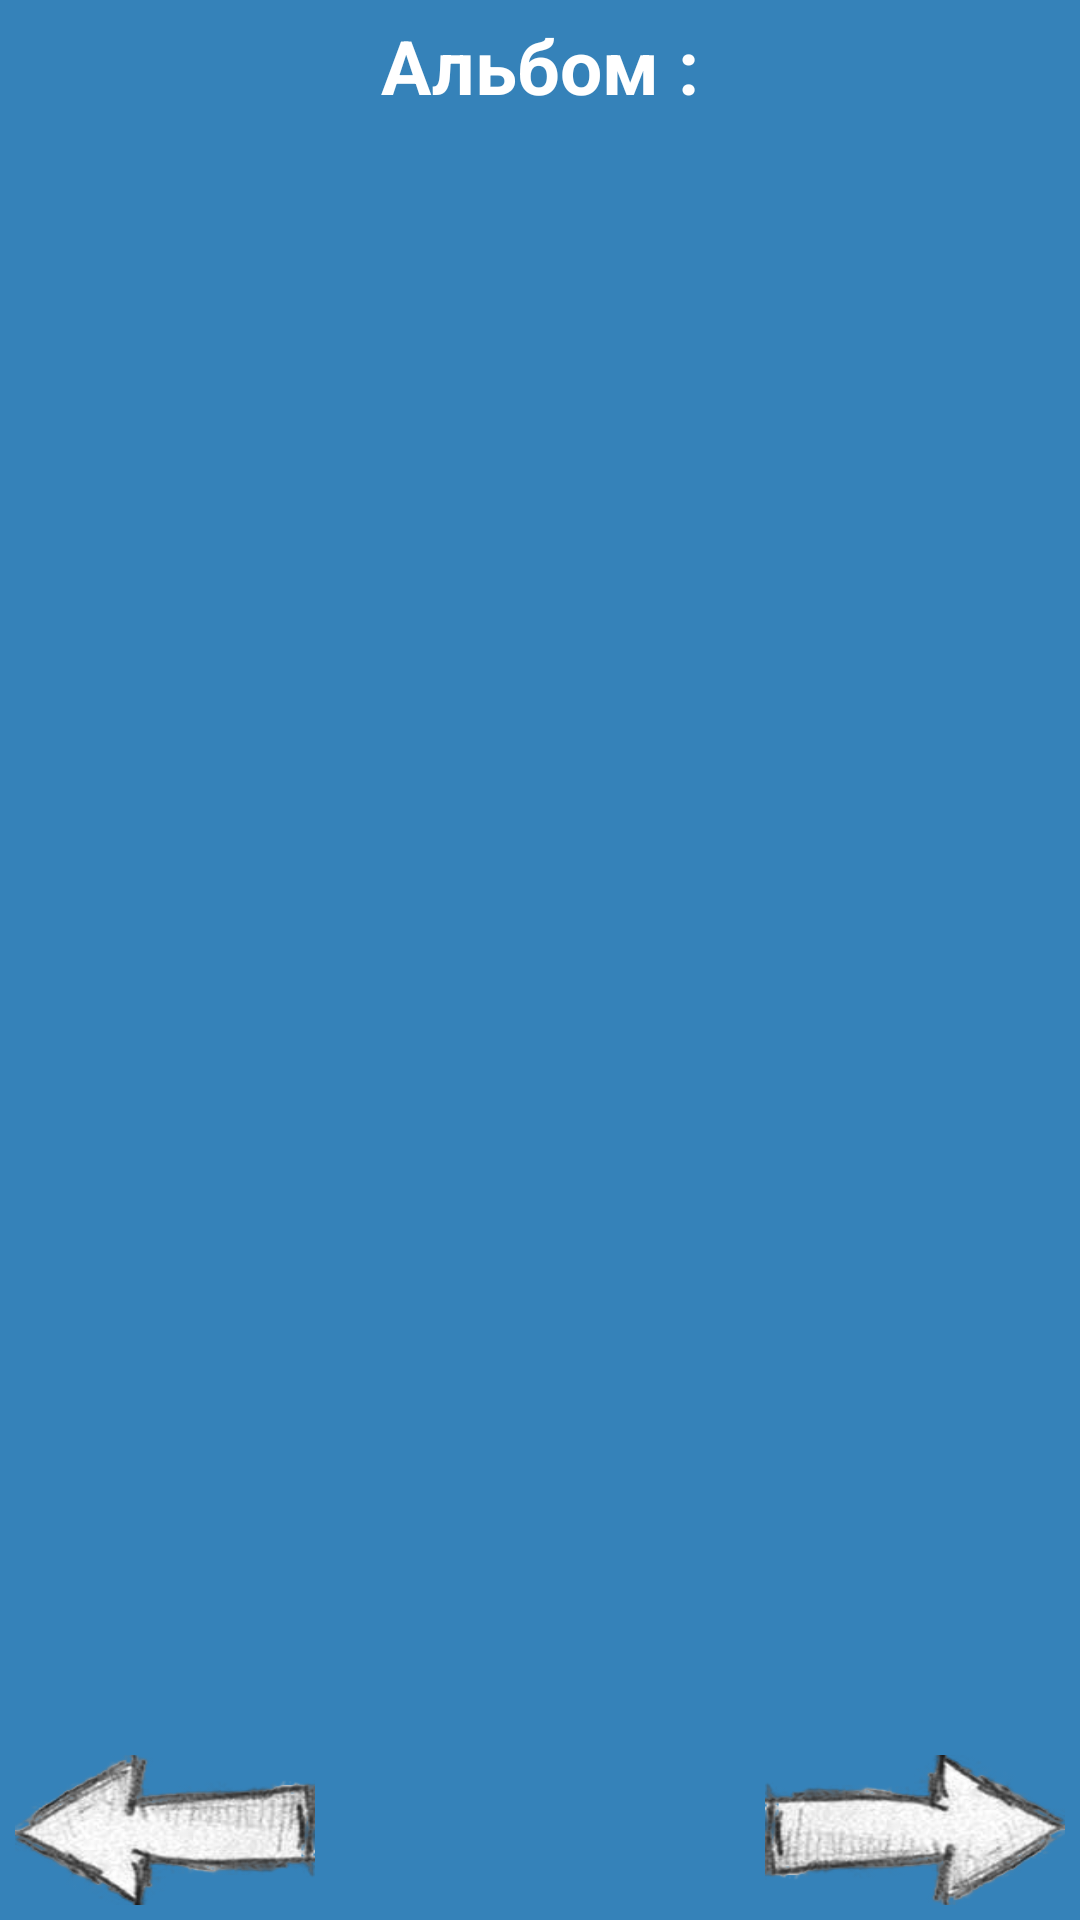

Screen size 1080 × 1920. Icon name, then its center in pixels as (x,y):
back: (165,1830)
forward: (915,1830)
